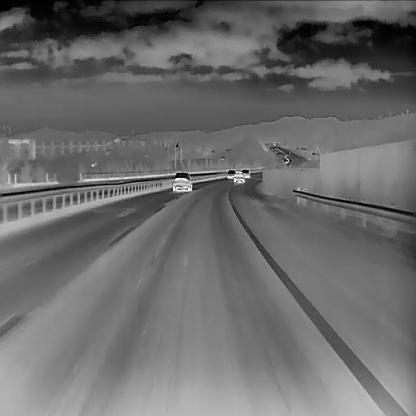car: (172, 171, 192, 191), (232, 169, 244, 181), (226, 167, 236, 179), (241, 167, 250, 178)
